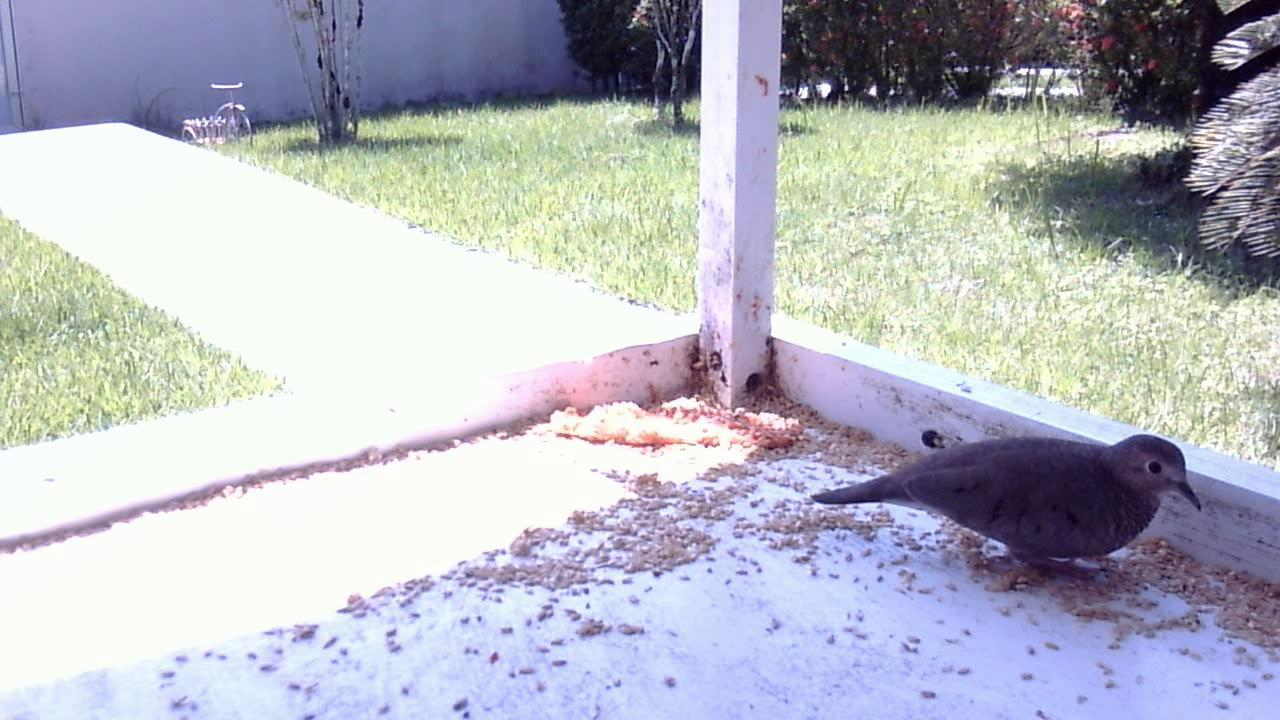rolinha: (803, 408, 1204, 606)
